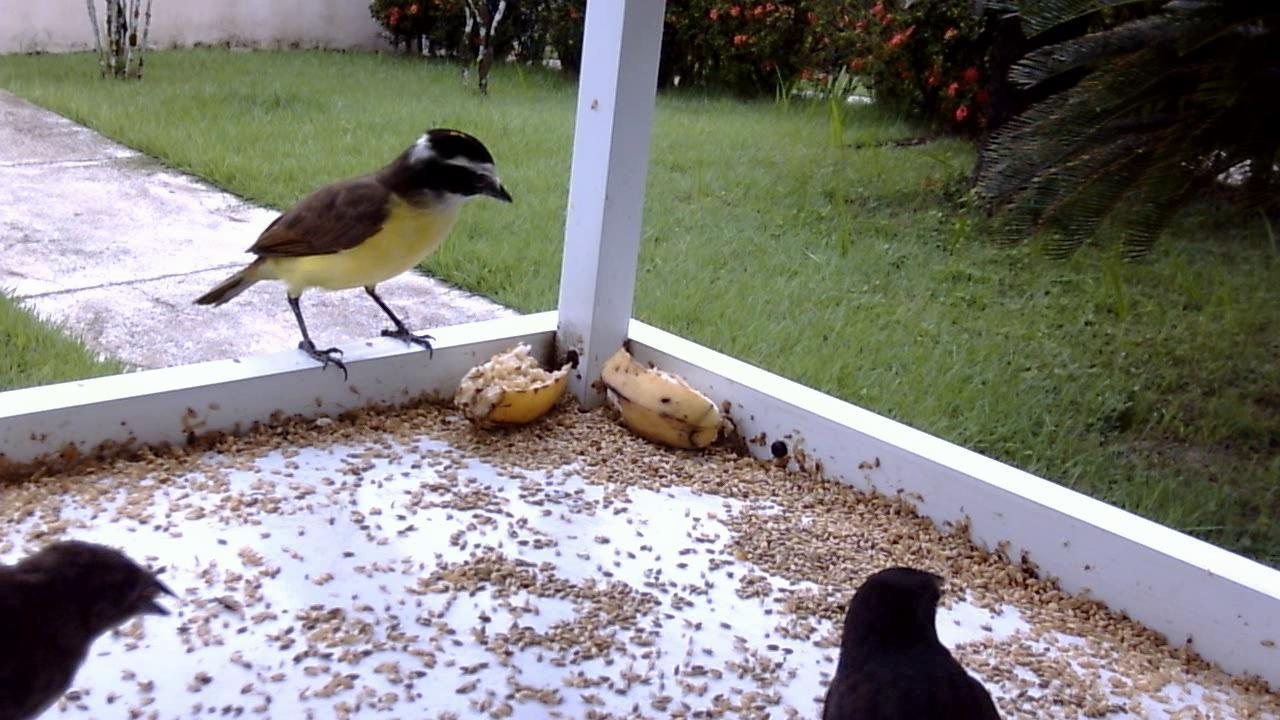bem_te_vi: (190, 121, 520, 385)
chupim: (1, 536, 188, 720), (818, 564, 1004, 720)
